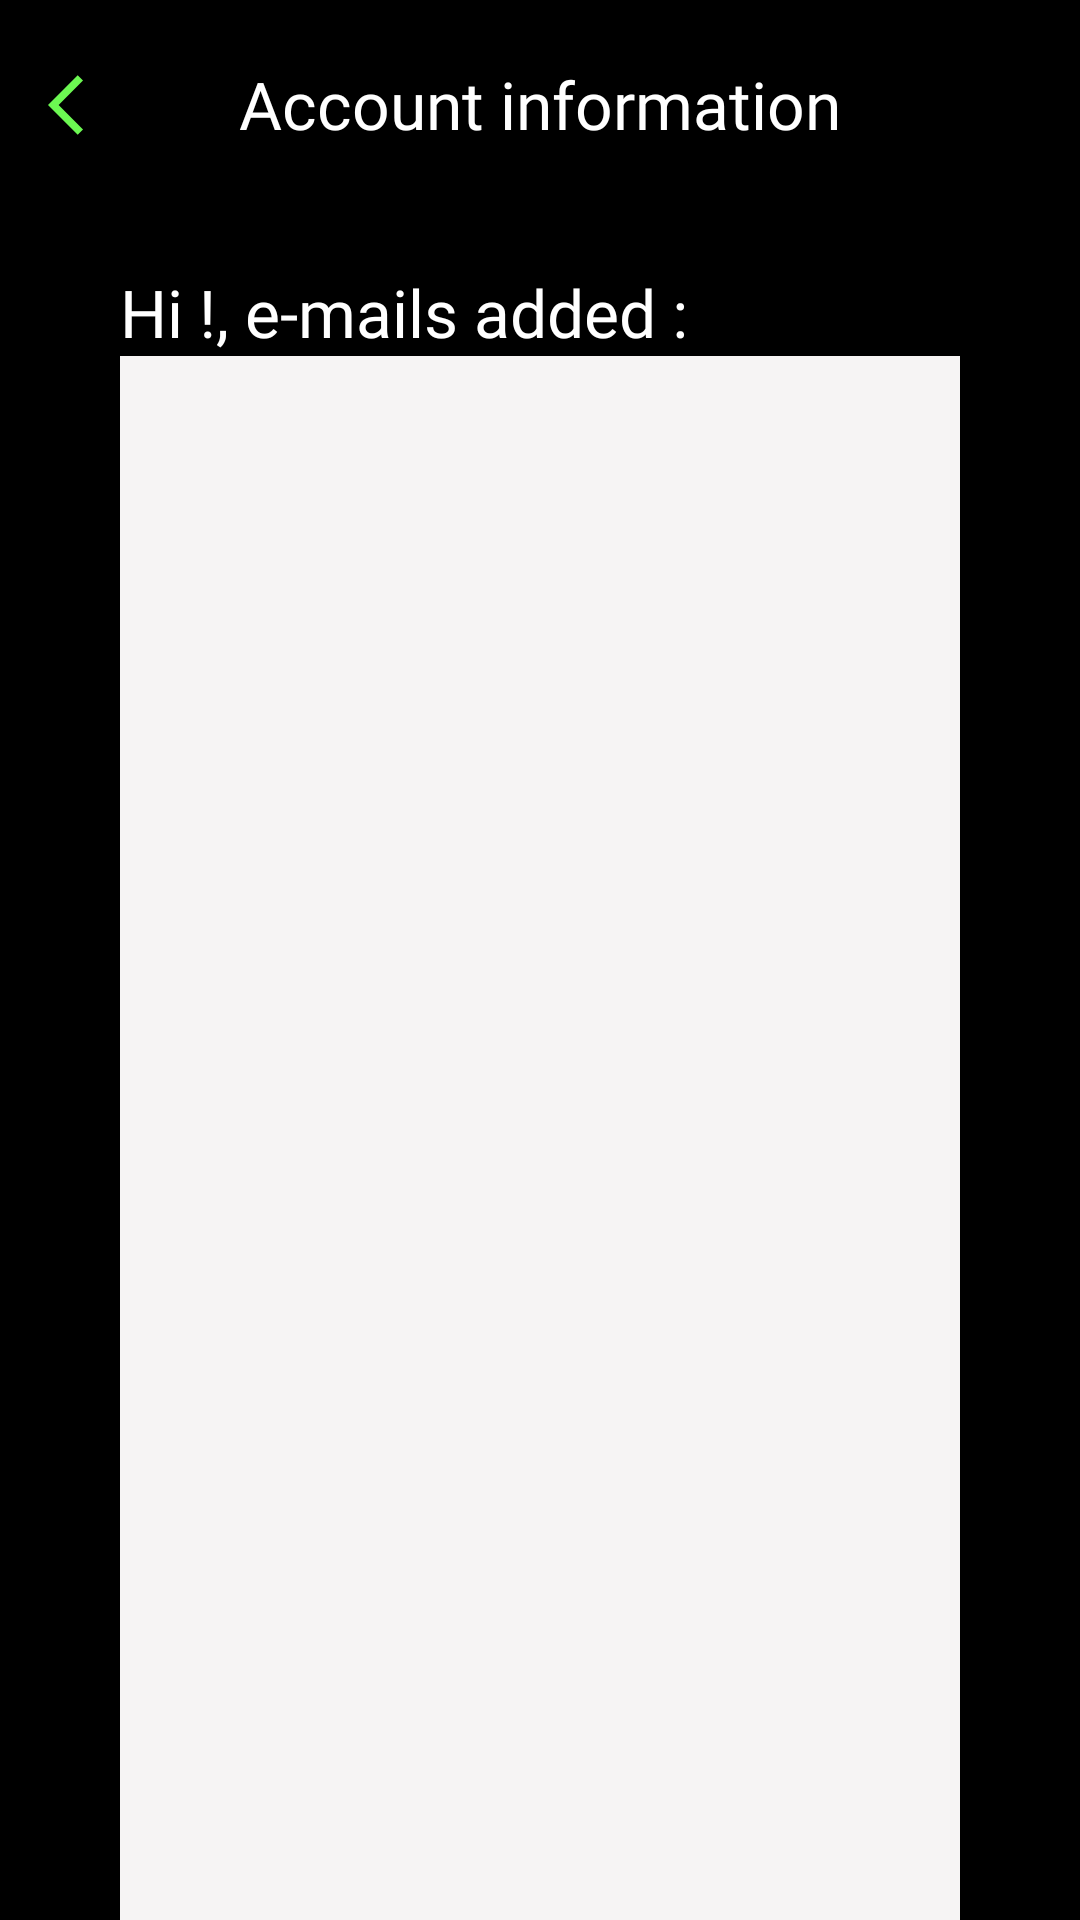

Where icons sit on this 1080×1920 app screen, as BBox(x1, y1, x2, y2):
arrow back: BBox(48, 75, 83, 135)
